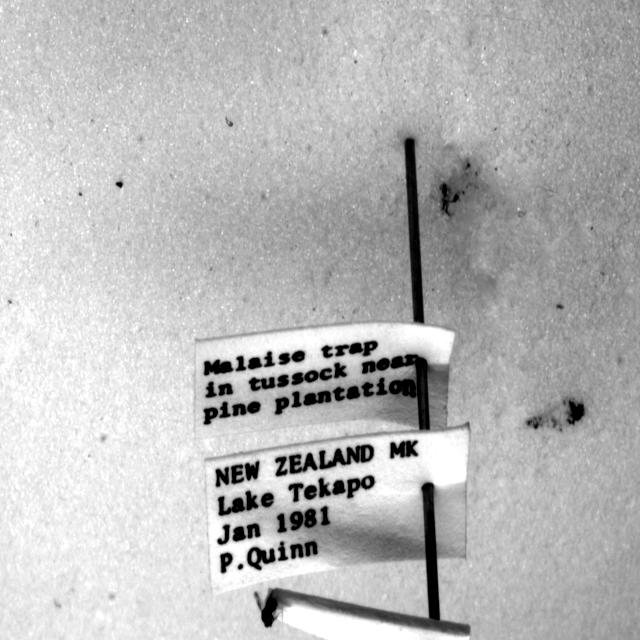typed_label: (205, 426, 470, 594), (195, 322, 455, 437)
